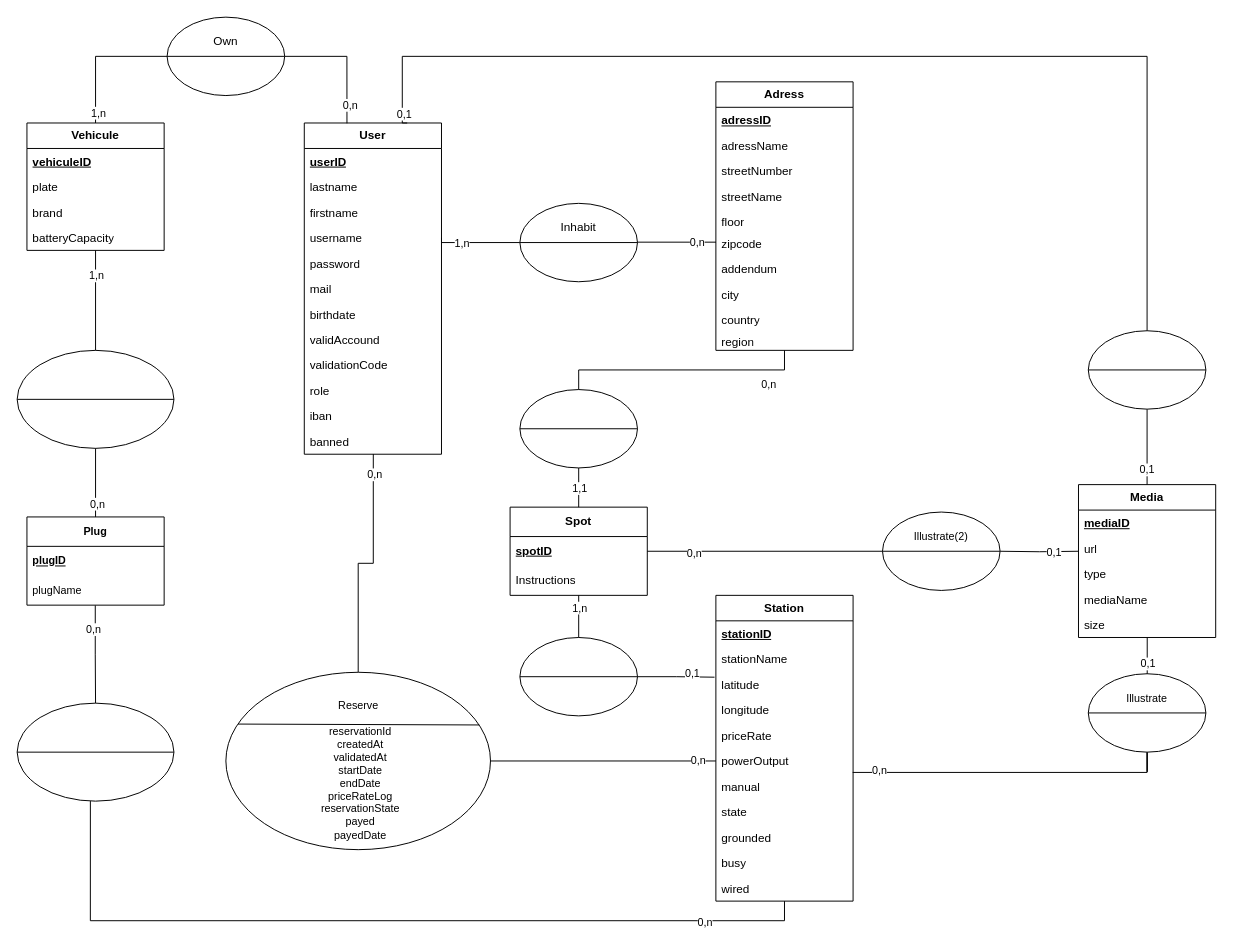
The diagram is 1233 pixels wide and 946 high, and some of its shapes have lost their labels. The centre of each missing label's shape, as x and y in pixels:
"Compatible with" belongs at point 95,398.
"Compatible with (2)" belongs at point 95,751.
"Contain" belongs at point 578,676.
"Illustrate(3)" belongs at point 1146,369.
"Placed at" belongs at point 578,428.
